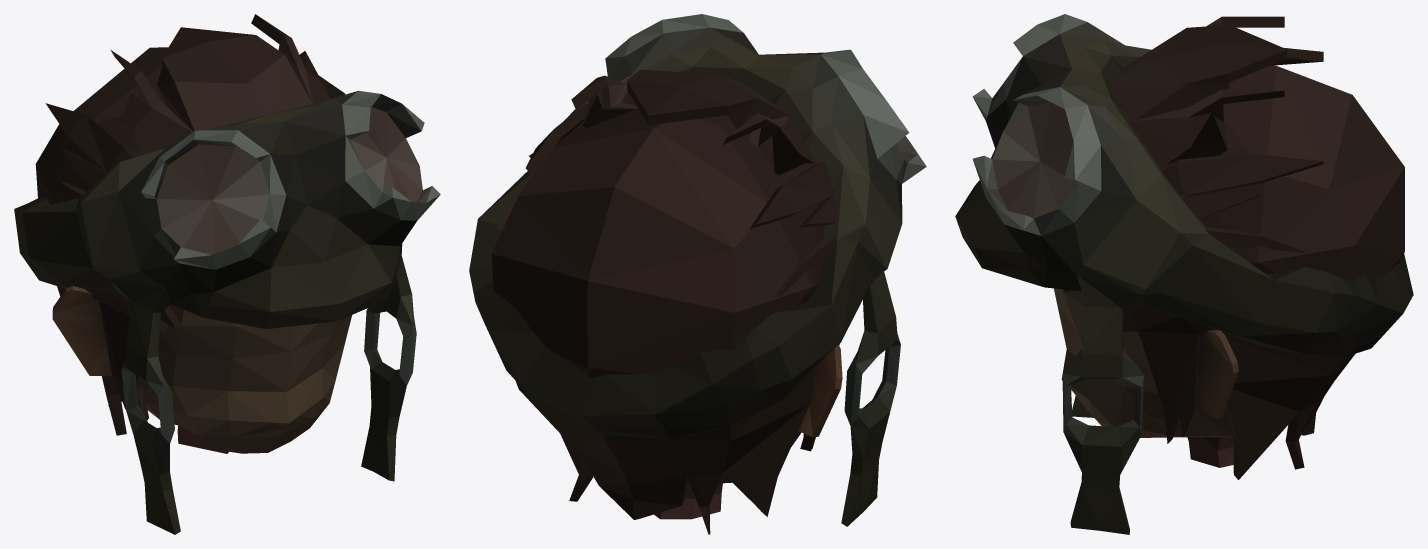
The model's file is helm_darkskin_spike_brown_goggles.fbx.
3 views of the same model, side by side, from view 1: azimuth 30°, elevation 25°; view 2: azimuth 150°, elevation 25°; view 3: azimuth 270°, elevation 25° (orthographic). The views are drawn at different scales.
Visible parts, largest first — view 1: helm_darkskin_spike_brown_goggles; view 2: helm_darkskin_spike_brown_goggles; view 3: helm_darkskin_spike_brown_goggles.
Part boxes in pixels (x1=…): helm_darkskin_spike_brown_goggles: x1=14, y1=14, x2=440, y2=534; helm_darkskin_spike_brown_goggles: x1=469, y1=14, x2=926, y2=534; helm_darkskin_spike_brown_goggles: x1=955, y1=14, x2=1413, y2=534.
Bounding box in the file's own units: 1.21 × 1.45 × 1.39.
